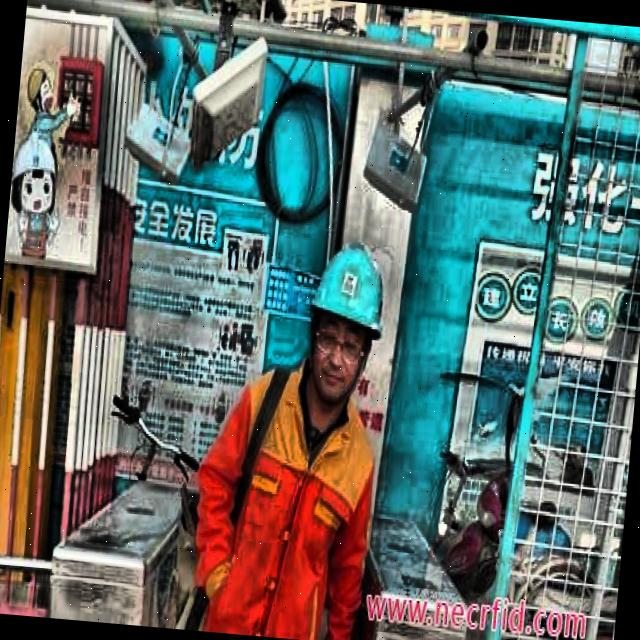helmet: (296, 219, 400, 420)
